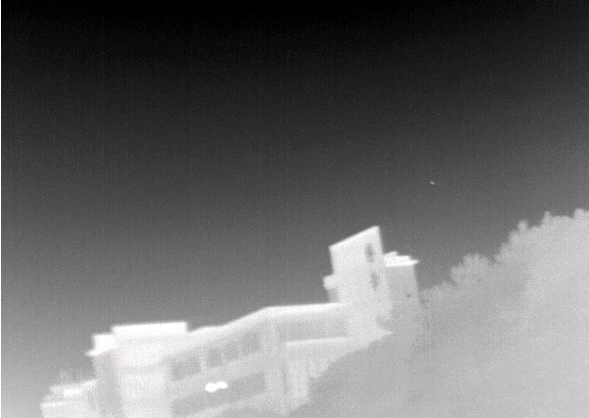dim target: (429, 179, 436, 186)
